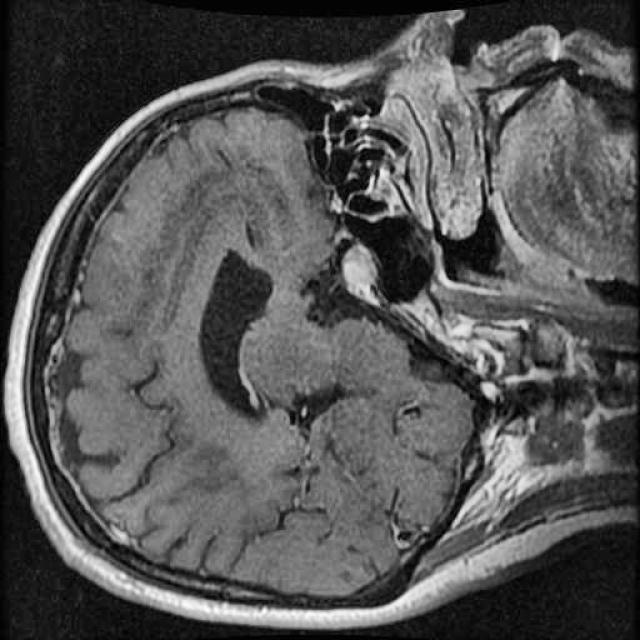Tumor: (328, 229, 389, 315)
